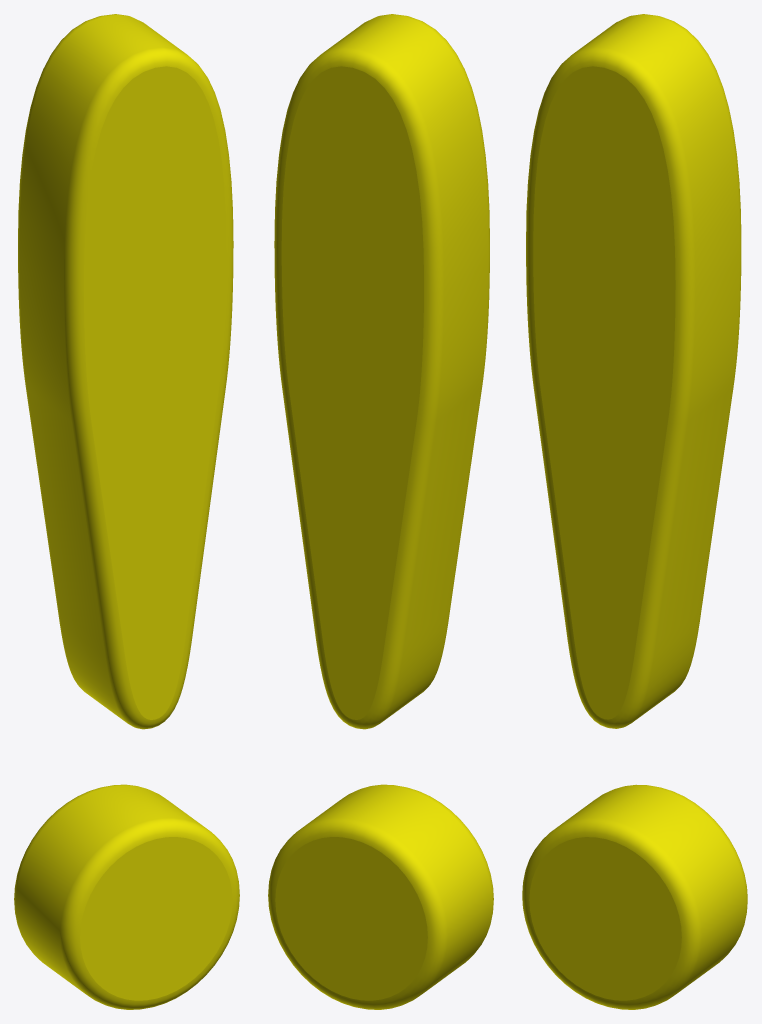
Rendered from misionEntregar.glb.
3 views of the same model, side by side, from view 1: azimuth 30°, elevation 25°; view 2: azimuth 150°, elevation 25°; view 3: azimuth 330°, elevation 25° (orthographic).
Visible parts, largest first — view 1: !; view 2: !; view 3: !.
Boxes of the visible parts, x1,y1,x2,y2 form: !: (14, 14, 239, 1009); !: (268, 14, 493, 1009); !: (522, 14, 747, 1009).
Size of the model in its own units: 0.14 by 0.7201 by 0.08.
